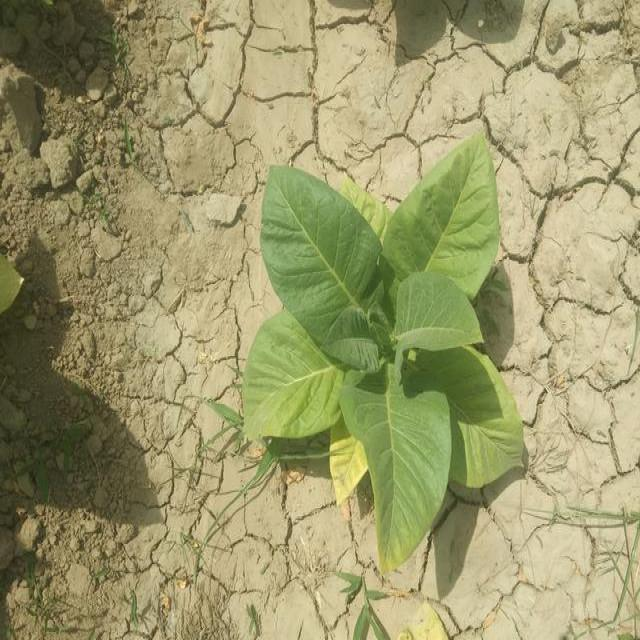crop: (252, 146, 523, 585)
